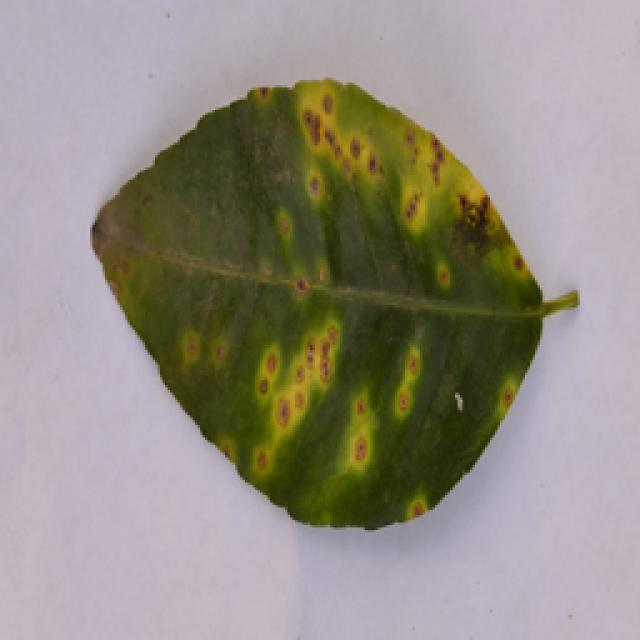canker: (151, 74, 558, 537)
